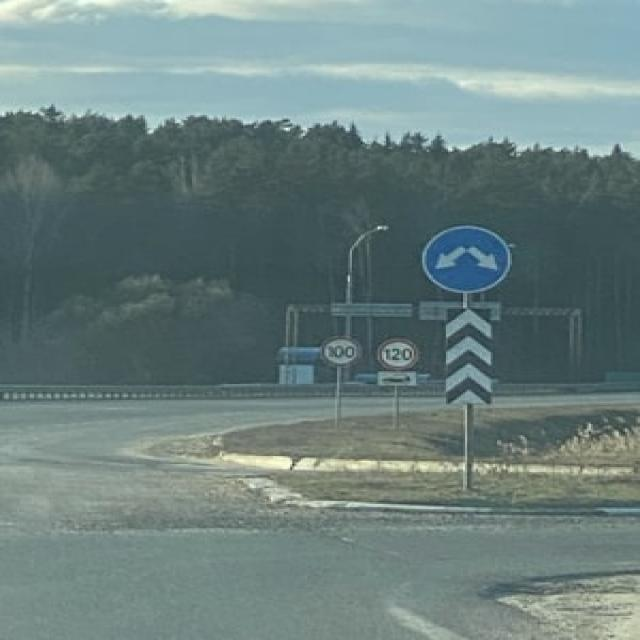Speed Limit -100-: (326, 344, 356, 359)
Speed Limit -120-: (383, 348, 412, 362)
